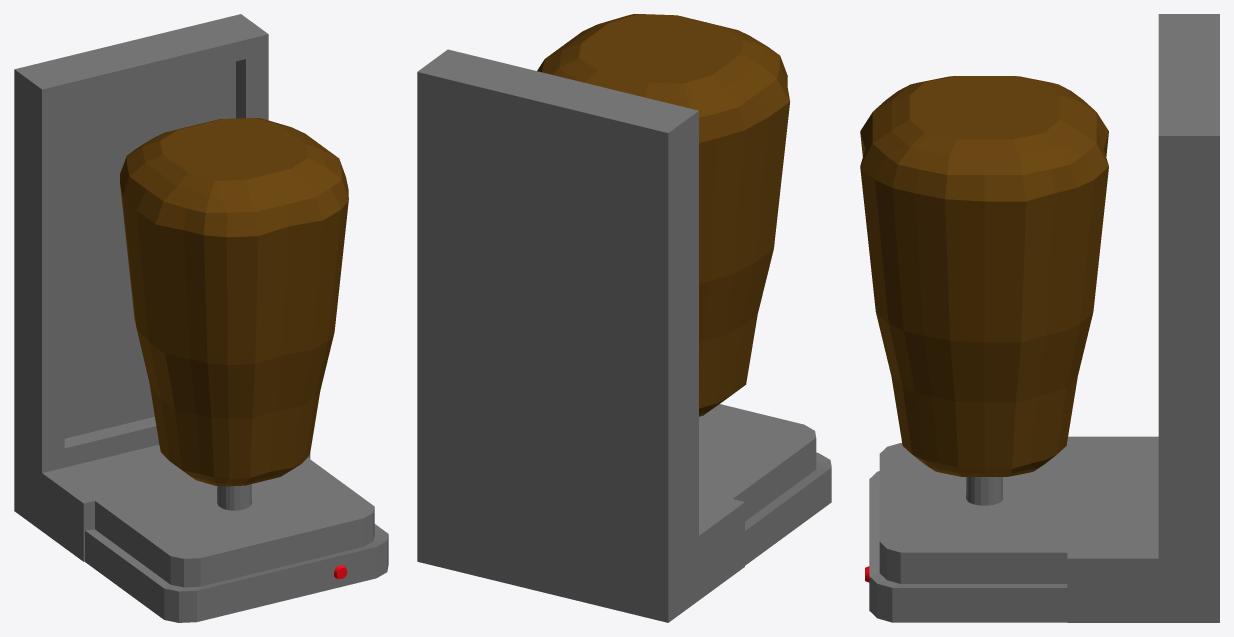
File: trompolleno.fbx
The picture shows the model from 3 angles, left to right: view 1: azimuth 30°, elevation 25°; view 2: azimuth 150°, elevation 25°; view 3: azimuth 270°, elevation 25°; orthographic projection. The views are drawn at different scales.
Visible parts, largest first — view 1: CALENTADOR, CARNE COMPLETA, BASE, TUBITO; view 2: CALENTADOR, CARNE COMPLETA, BASE; view 3: CARNE COMPLETA, CALENTADOR, BASE, TUBITO.
Boxes of the visible parts, box(x1,y1,x2,y2) form: CALENTADOR: box(14, 14, 310, 561); CARNE COMPLETA: box(120, 118, 348, 486); BASE: box(85, 457, 388, 622); TUBITO: box(217, 484, 251, 510); CALENTADOR: box(417, 49, 744, 622); CARNE COMPLETA: box(537, 14, 790, 416); BASE: box(699, 404, 831, 565); CARNE COMPLETA: box(860, 76, 1108, 476); CALENTADOR: box(1067, 14, 1219, 622); BASE: box(869, 443, 1067, 622); TUBITO: box(966, 477, 1002, 505).
Size of the model in its own units: 495 by 922 by 617.
